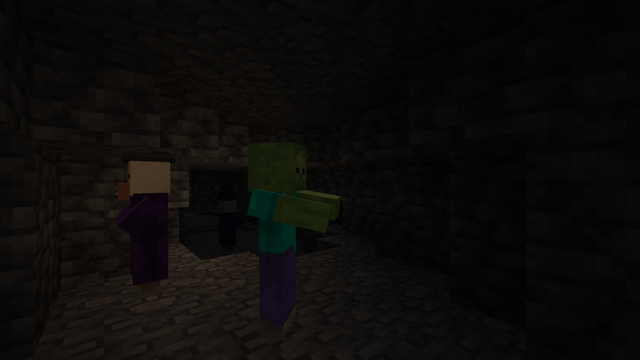sorcieres: (121, 154, 175, 303), (216, 197, 234, 253)
zombies: (242, 145, 316, 349)
